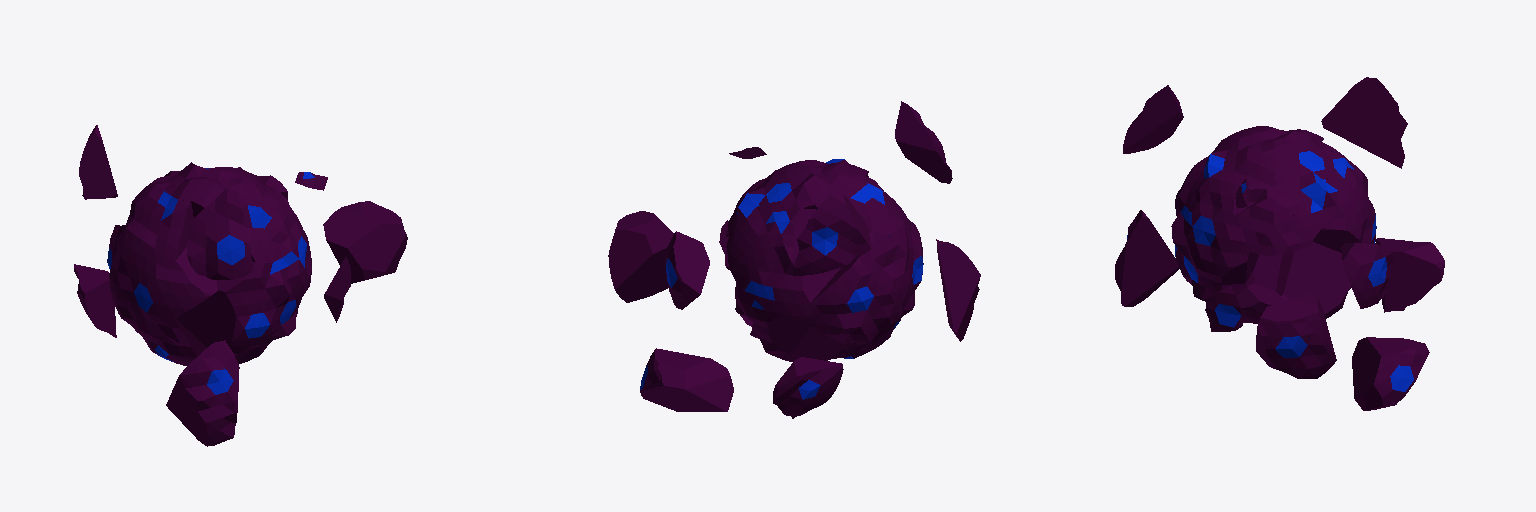
The model's file is Titanius.obj.
The picture shows the model from 3 angles: view 1: azimuth 30°, elevation 25°; view 2: azimuth 150°, elevation 25°; view 3: azimuth 270°, elevation 25°; orthographic projection.
Parts seen in each view (by area): view 1: Icosphere_cell.017_Icosphere_cell.014; view 2: Icosphere_cell.017_Icosphere_cell.014; view 3: Icosphere_cell.017_Icosphere_cell.014.
Boxes of the visible parts, x1=… form: Icosphere_cell.017_Icosphere_cell.014: x1=74, y1=125, x2=407, y2=446; Icosphere_cell.017_Icosphere_cell.014: x1=608, y1=101, x2=980, y2=418; Icosphere_cell.017_Icosphere_cell.014: x1=1115, y1=77, x2=1444, y2=410.
Size of the model in its own units: 122 by 107 by 120.